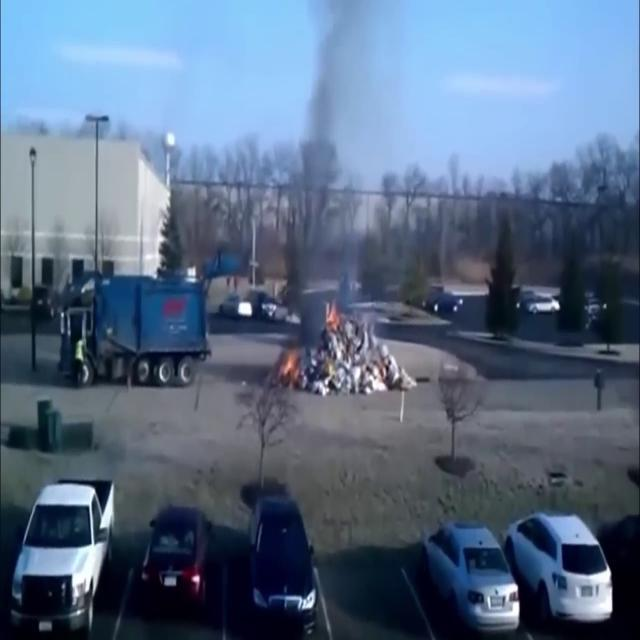Smoke: (278, 2, 374, 316)
